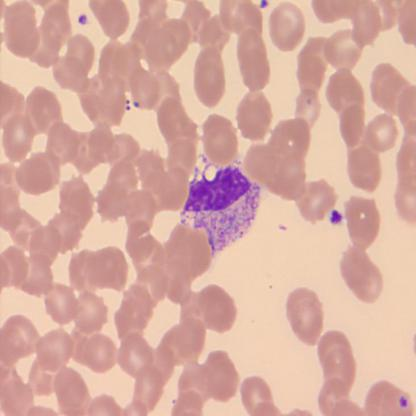Metamyelocyte: (177, 150, 262, 256)
